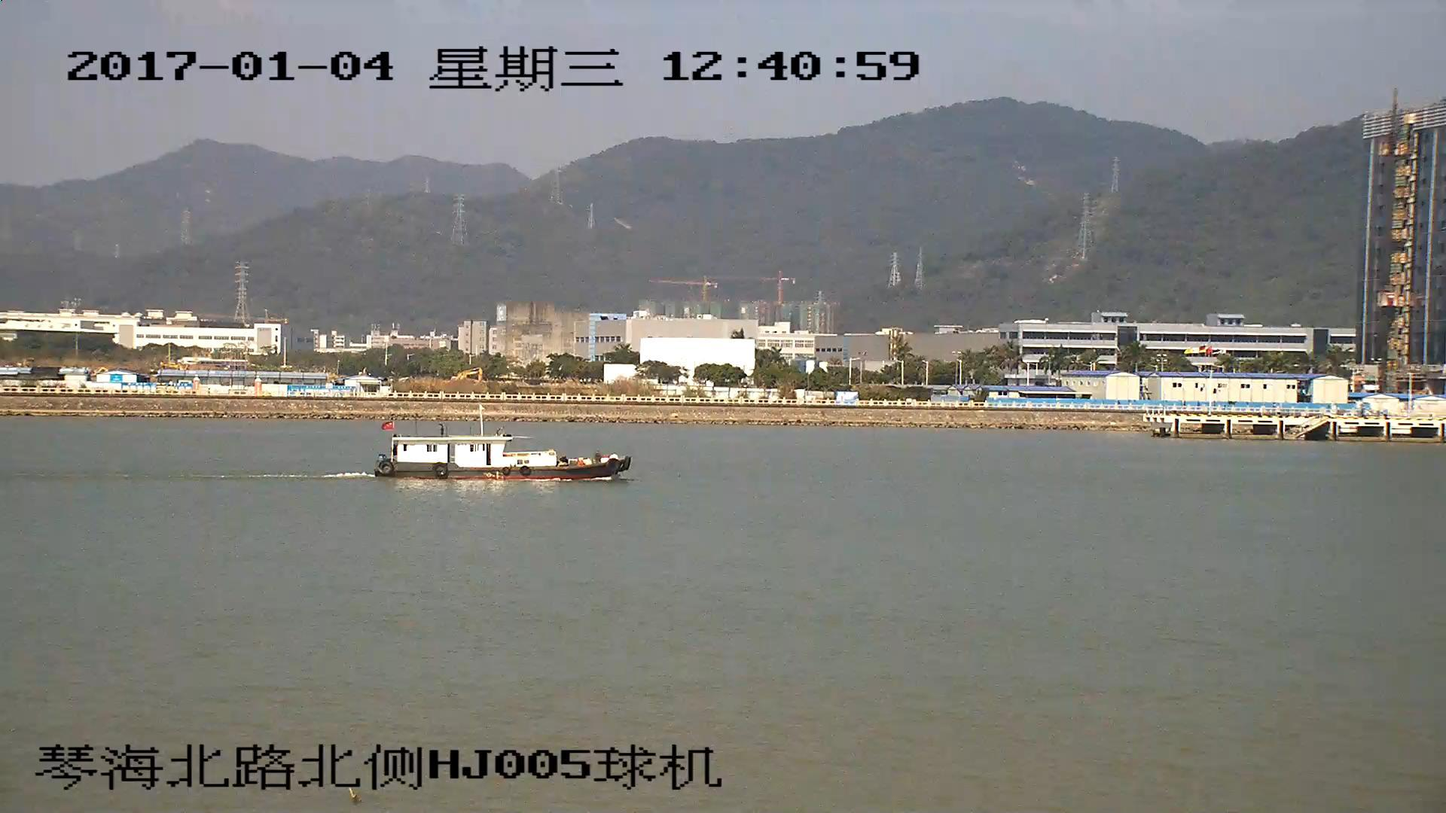fishing boat: (377, 427, 630, 481)
